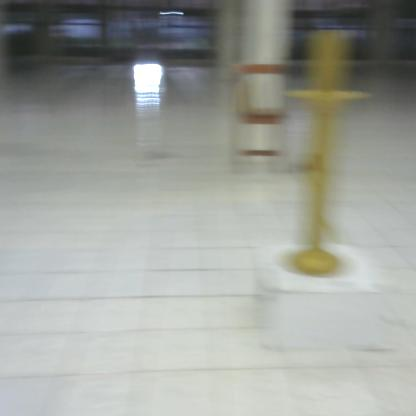pole: (284, 26, 369, 282)
